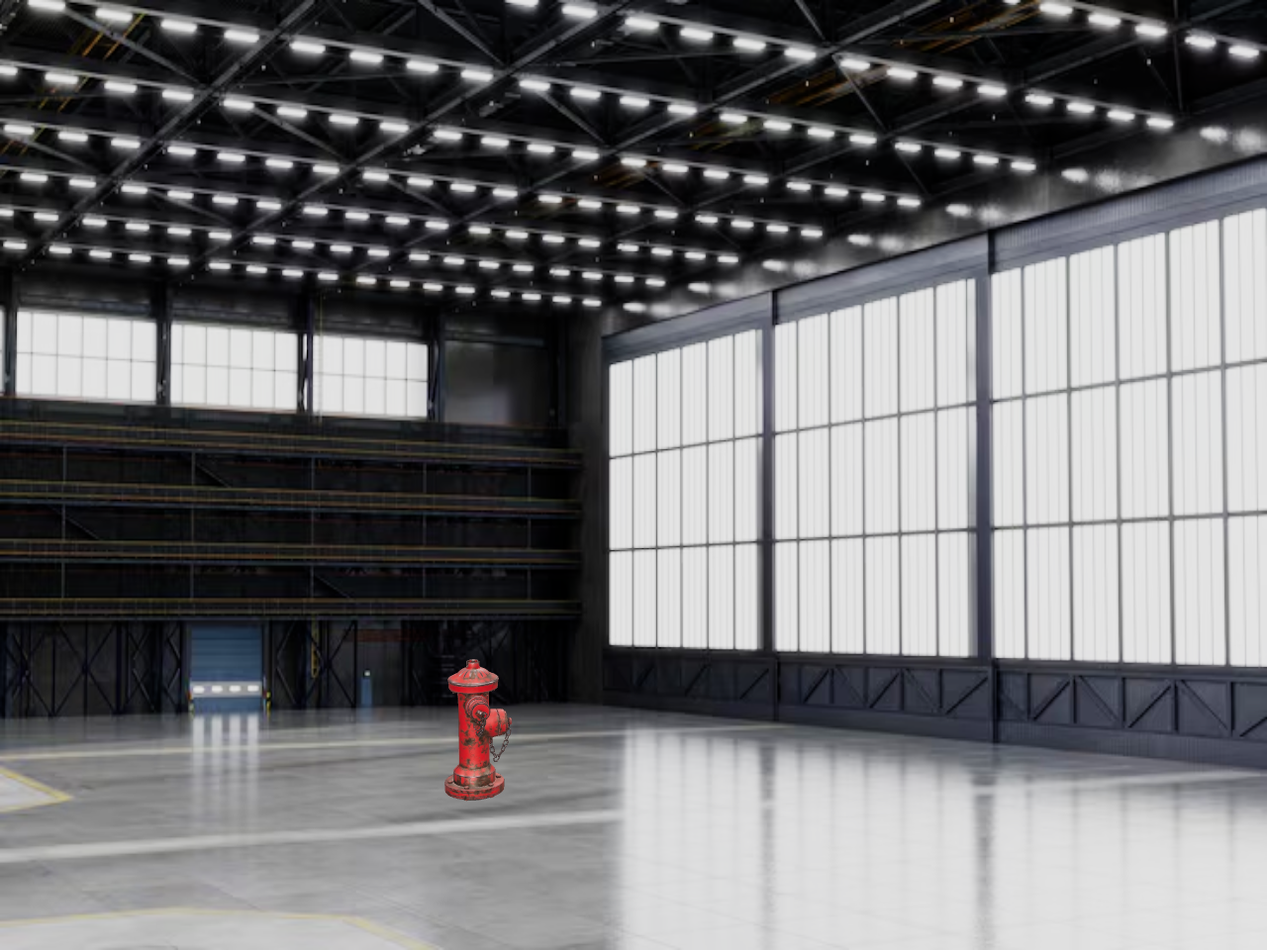ShirAtashNeshani: (445, 659, 512, 801)
